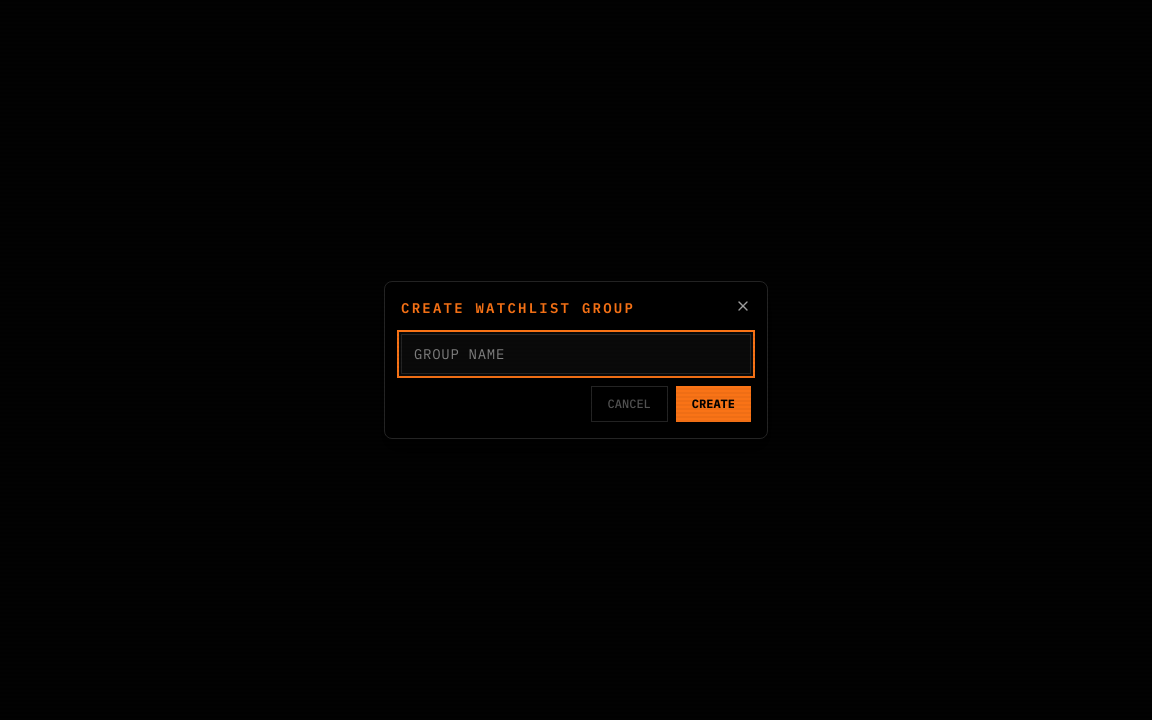
Scenario: WatchlistGroupDialog › validates empty and duplicate names
Click the button "CREATE" at [713, 404], box [676,386,751,422]
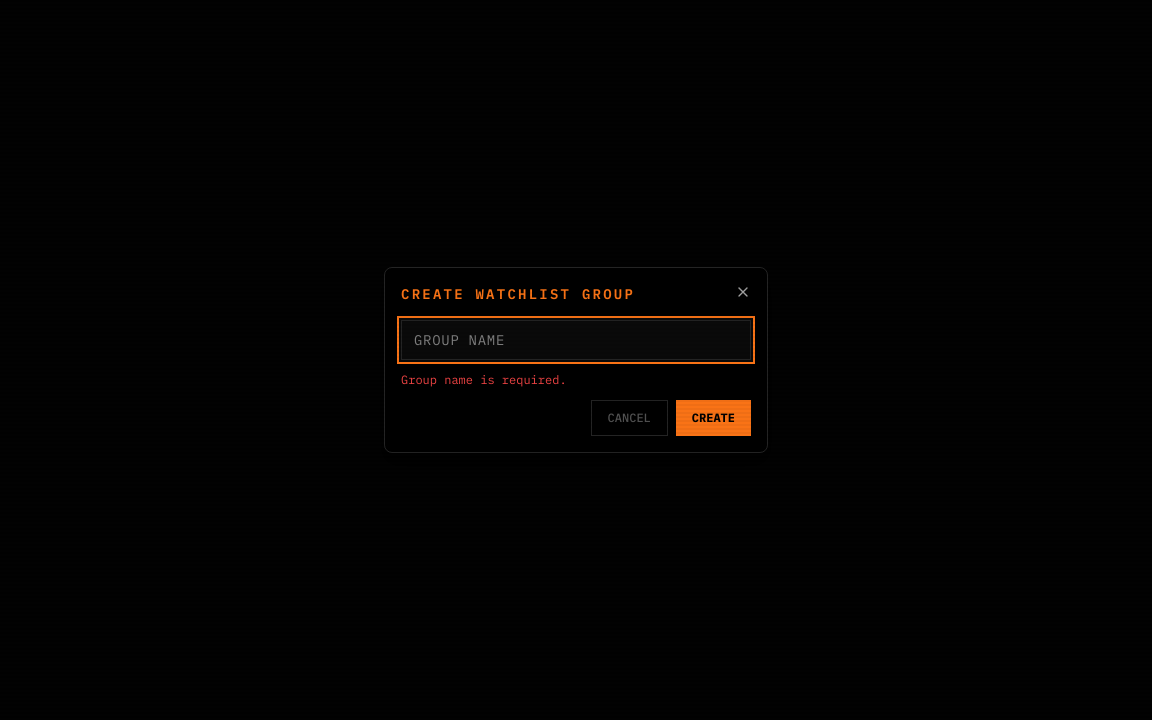
Expected: the text "Group name is required." is shown, [401,372,567,387]
Type " tech " into the field with placeholder "Group name" at [576, 340], box [401,320,751,360]
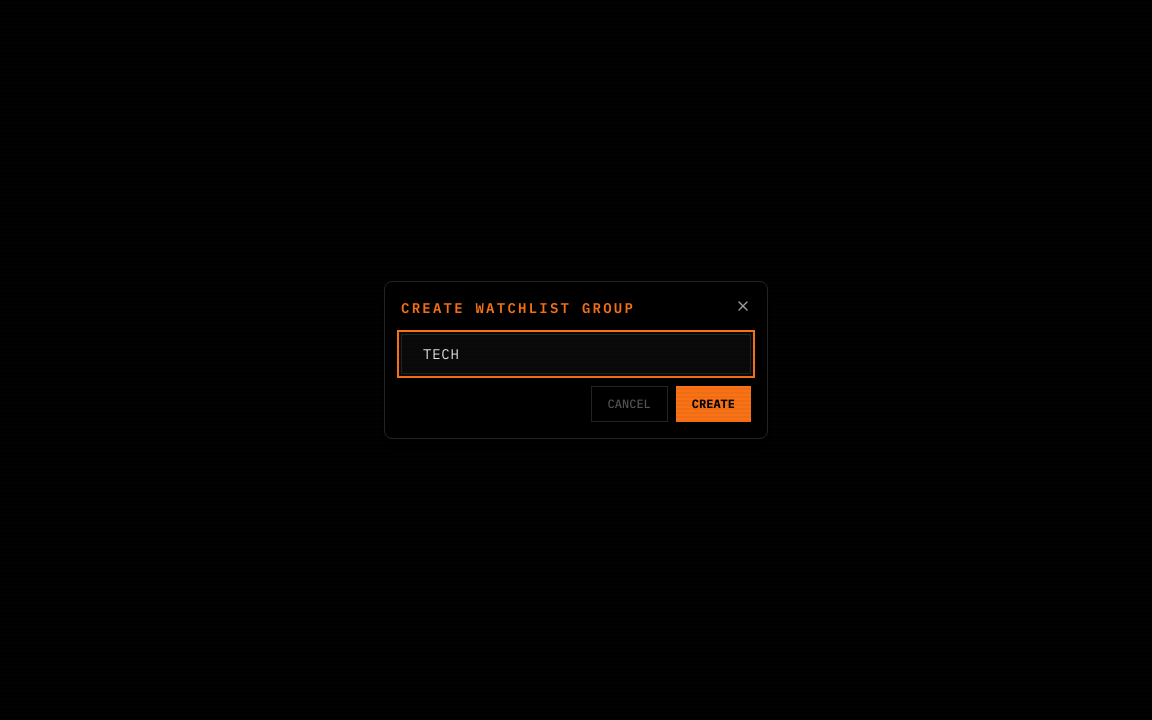
Click the button "CREATE" at [713, 404], box [676,386,751,422]
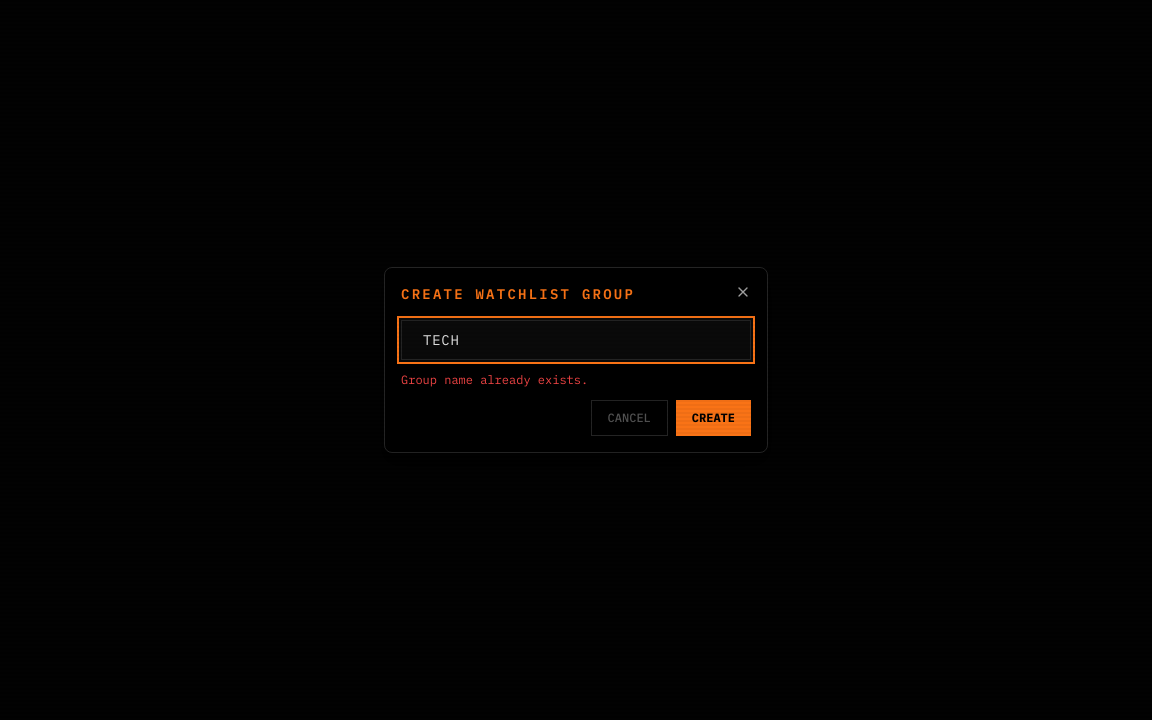
Expected: the text "Group name already exists." is shown, [401,372,588,387]
